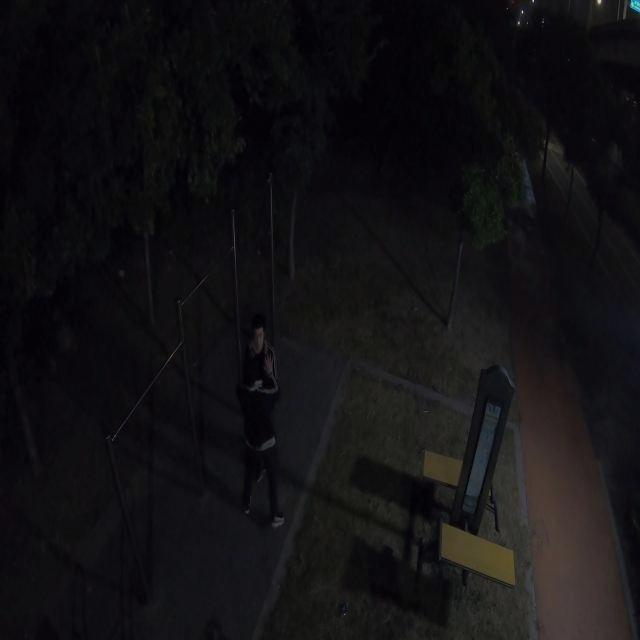fight: (233, 317, 292, 529)
